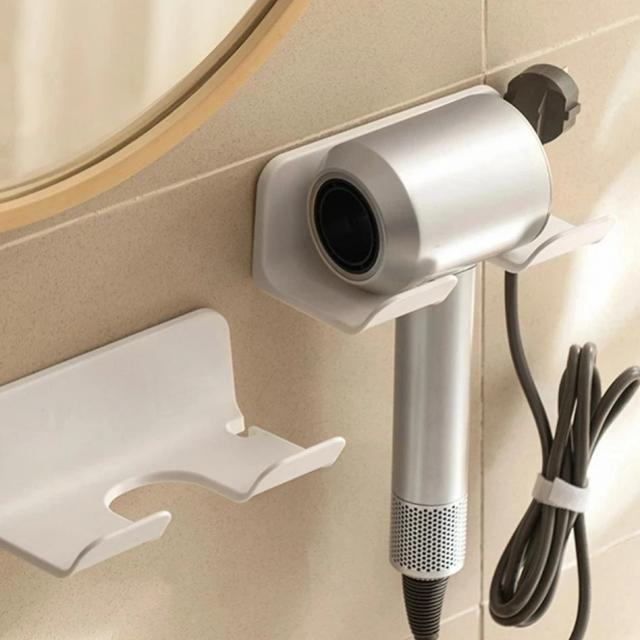dryer: (295, 77, 565, 640)
